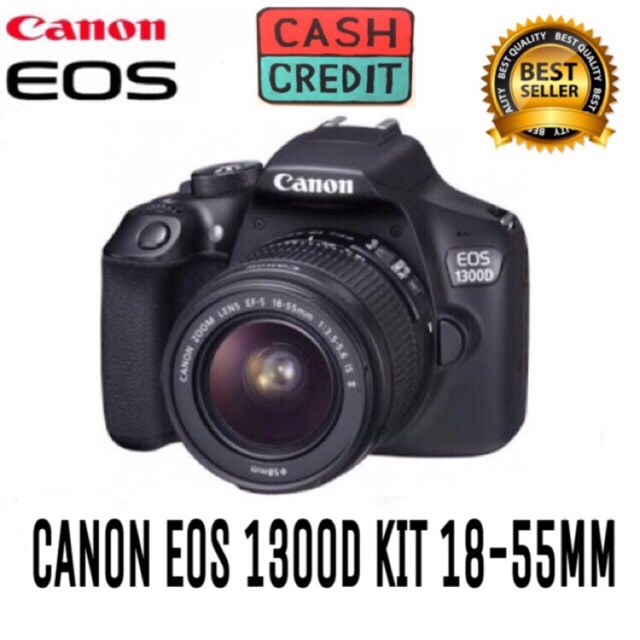kamera: (95, 111, 551, 503)
